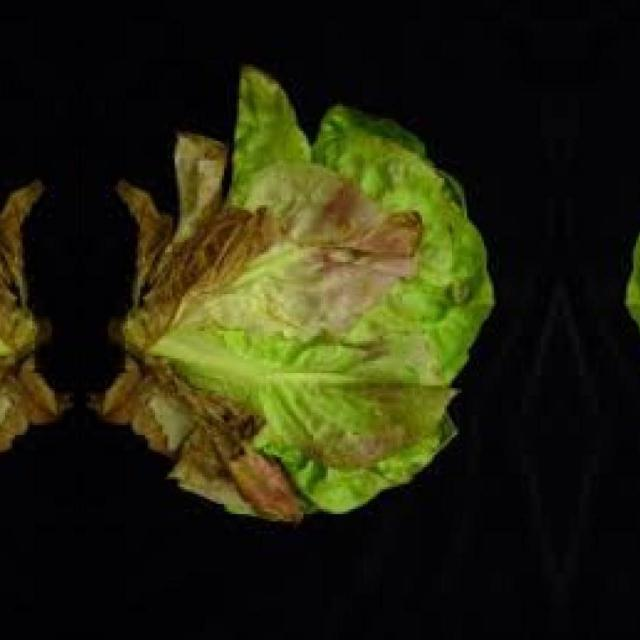healthy: (92, 55, 496, 527), (0, 55, 67, 527), (624, 55, 640, 527)
